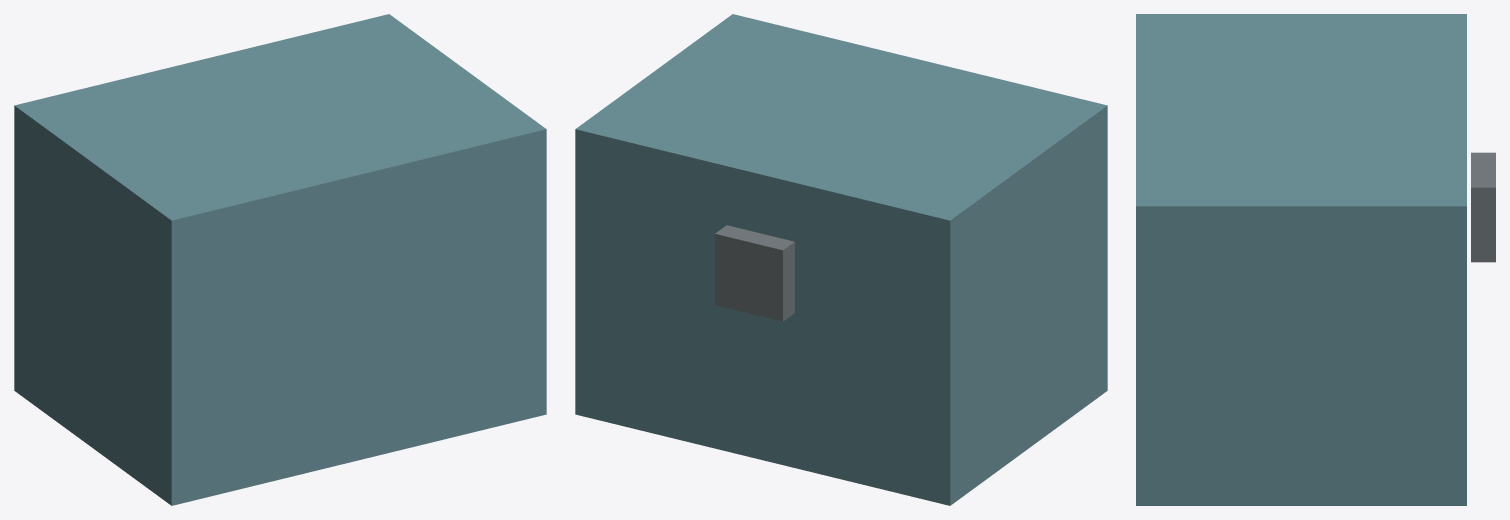
Rendered from cooler_box.glb.
The picture shows the model from 3 angles, left to right: view 1: azimuth 30°, elevation 25°; view 2: azimuth 150°, elevation 25°; view 3: azimuth 270°, elevation 25°; orthographic projection. The views are drawn at different scales.
Parts seen in each view (by area): view 1: body, lid; view 2: body, lid; view 3: body, lid.
Boxes of the visible parts, x1=… form: body: x1=14, y1=123, x2=546, y2=505; lid: x1=14, y1=14, x2=546, y2=255; body: x1=575, y1=123, x2=1107, y2=505; lid: x1=575, y1=14, x2=1107, y2=255; body: x1=1136, y1=152, x2=1495, y2=505; lid: x1=1136, y1=14, x2=1466, y2=242.
Size of the model in its own units: 0.55 by 0.4 by 0.435.
